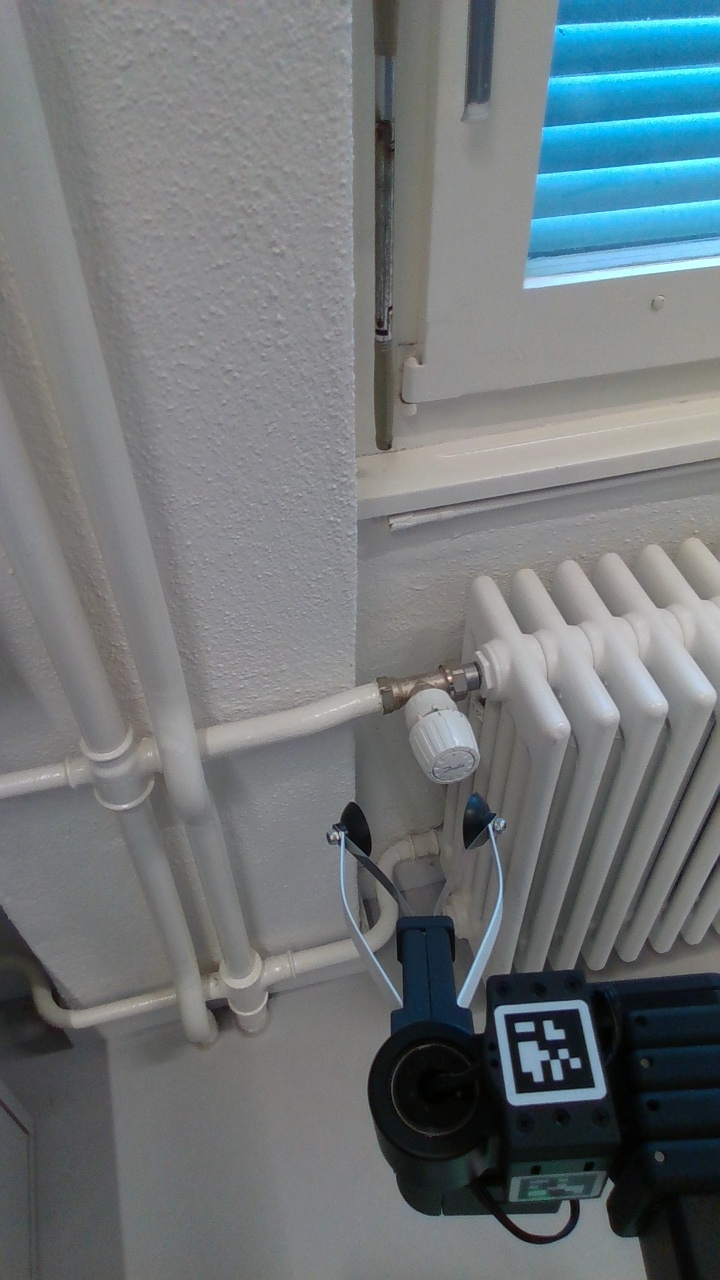Knob_Radiator: (390, 675, 489, 792)
Radiator: (443, 524, 718, 994)
